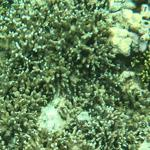alive: (5, 3, 149, 149)
